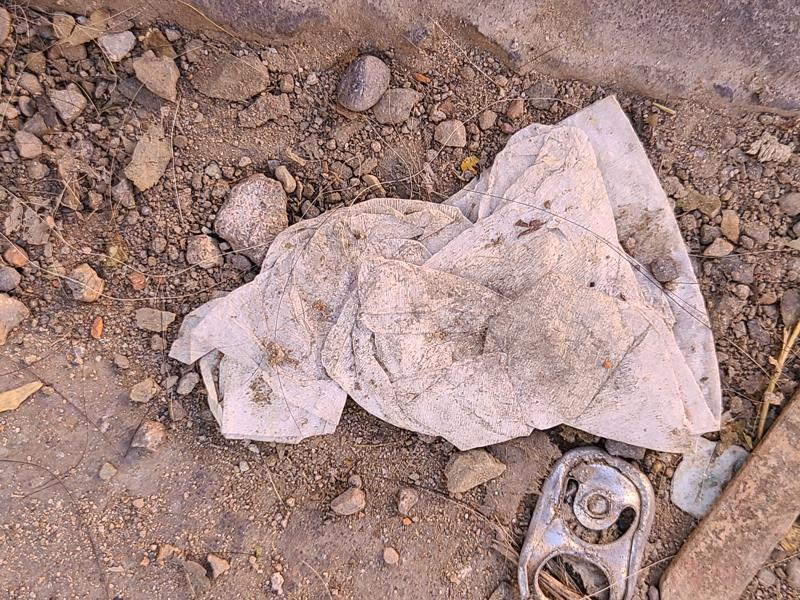papel: (168, 96, 748, 518), (166, 96, 729, 519)
